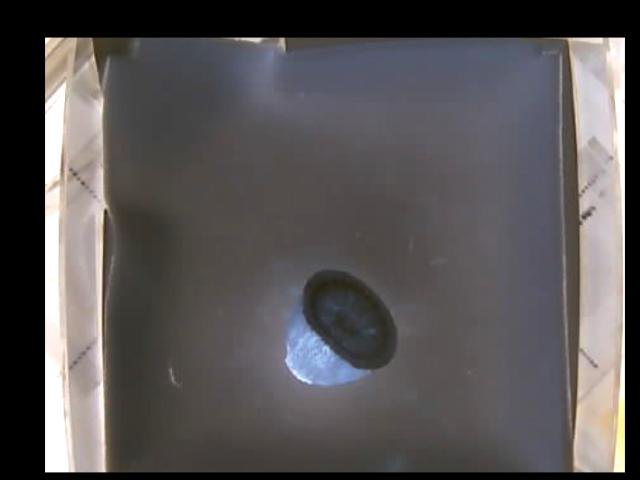Mooli: (282, 265, 398, 382)
